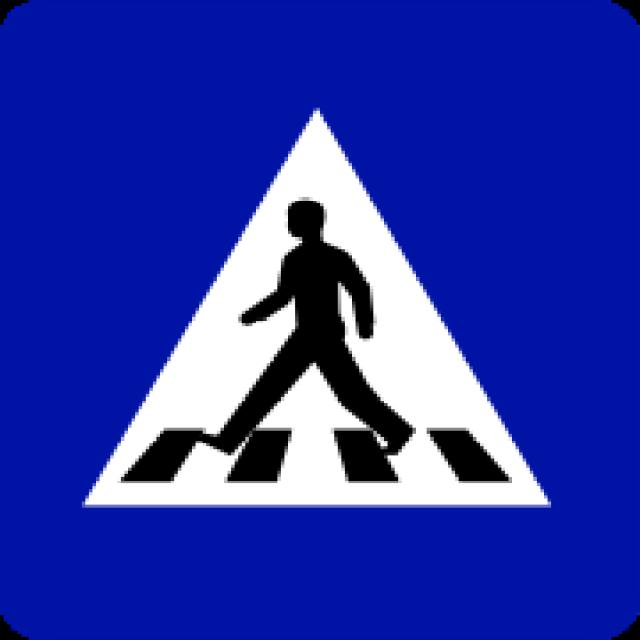Pedestrian crosswalk: (27, 74, 605, 583)
